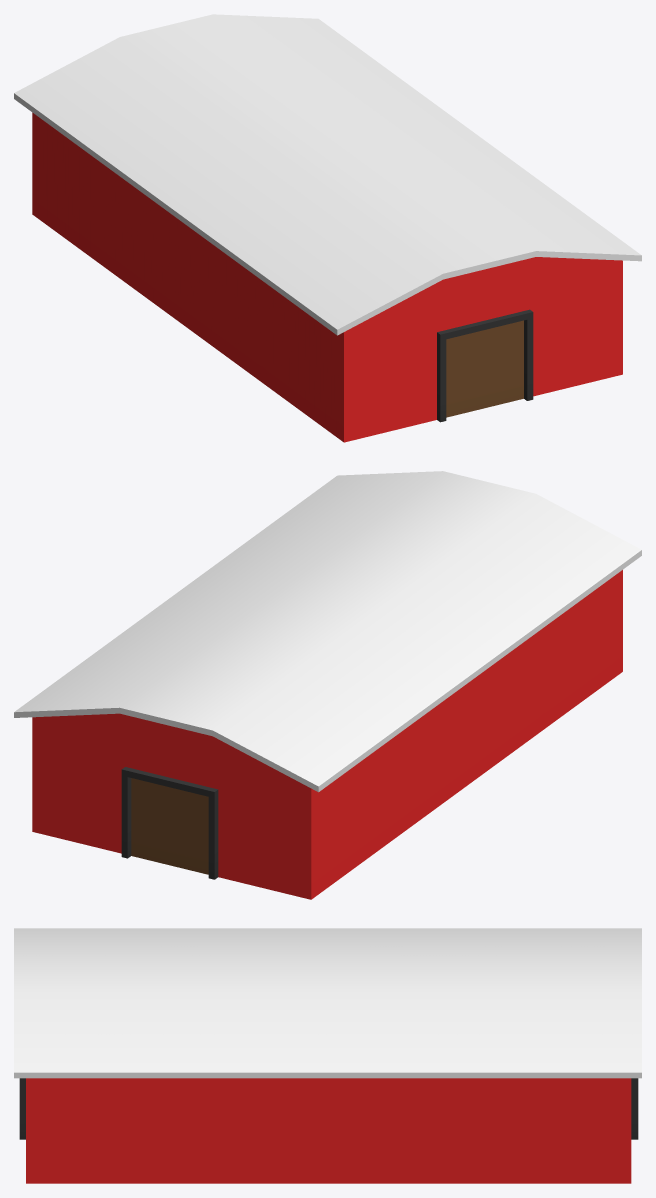
File: Building 02.FBX
3 views of the same model, one above another, from view 1: azimuth 30°, elevation 25°; view 2: azimuth 150°, elevation 25°; view 3: azimuth 270°, elevation 25° (orthographic). The views are drawn at different scales.
Parts seen in each view (by area): view 1: Box001; view 2: Box001; view 3: Box001.
Boxes of the visible parts, box(x1,y1,x2,y2) form: Box001: box(14, 14, 641, 442); Box001: box(14, 471, 641, 899); Box001: box(14, 928, 641, 1183).
Size of the model in its own units: 11.9 by 5.62 by 21.87.
